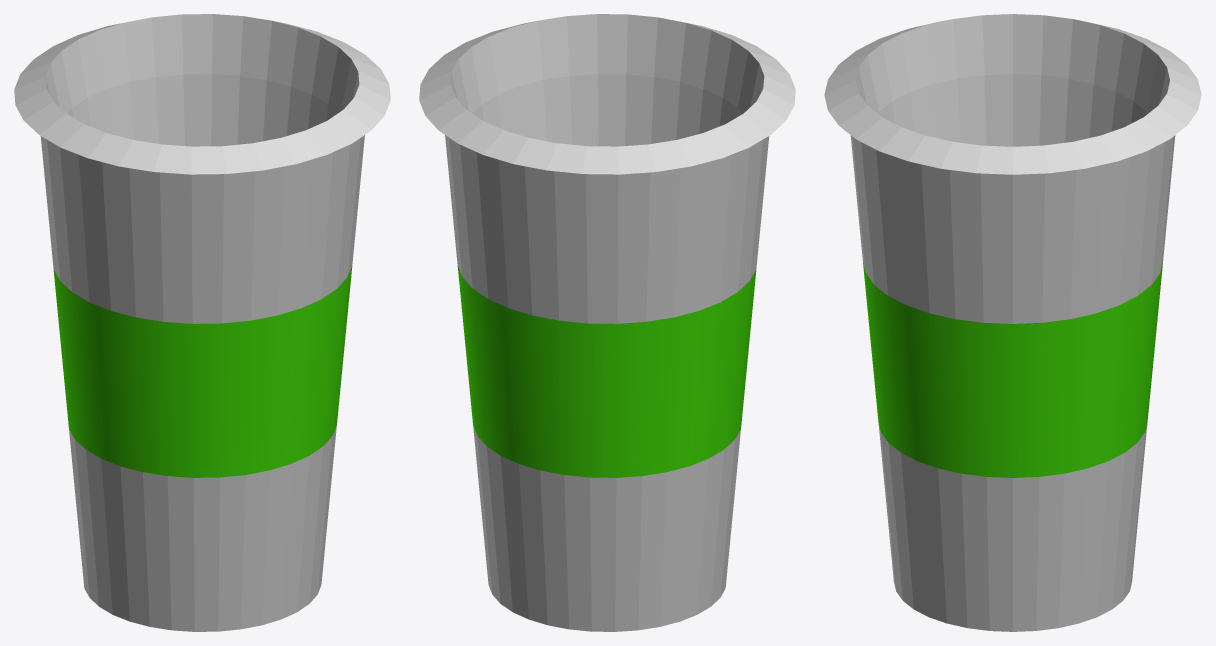
File: PETIT VERT.fbx
3 renders of one model, left to right at view 1: azimuth 30°, elevation 25°; view 2: azimuth 150°, elevation 25°; view 3: azimuth 270°, elevation 25°, orthographic.
Visible parts, largest first — view 1: Circle, Circle.001; view 2: Circle, Circle.001; view 3: Circle, Circle.001.
Part boxes in pixels (bbox=[...]): Circle: bbox=[14, 14, 390, 631]; Circle.001: bbox=[53, 265, 352, 477]; Circle: bbox=[419, 14, 795, 631]; Circle.001: bbox=[457, 265, 756, 477]; Circle: bbox=[824, 14, 1201, 631]; Circle.001: bbox=[863, 262, 1162, 477].
Bounding box in the file's own units: 142 × 208 × 142.
